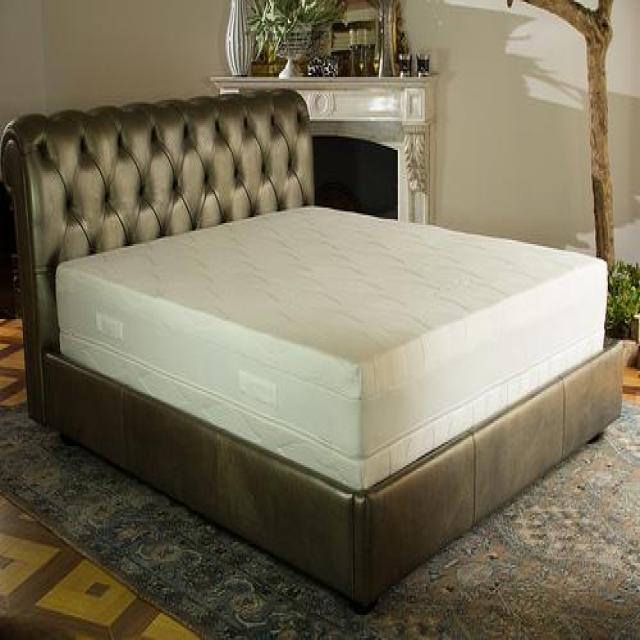bed: (0, 88, 624, 614)
